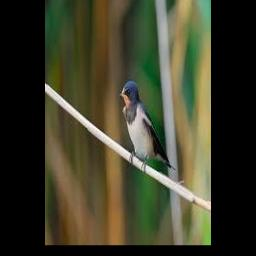Swallow: (118, 81, 175, 172)
